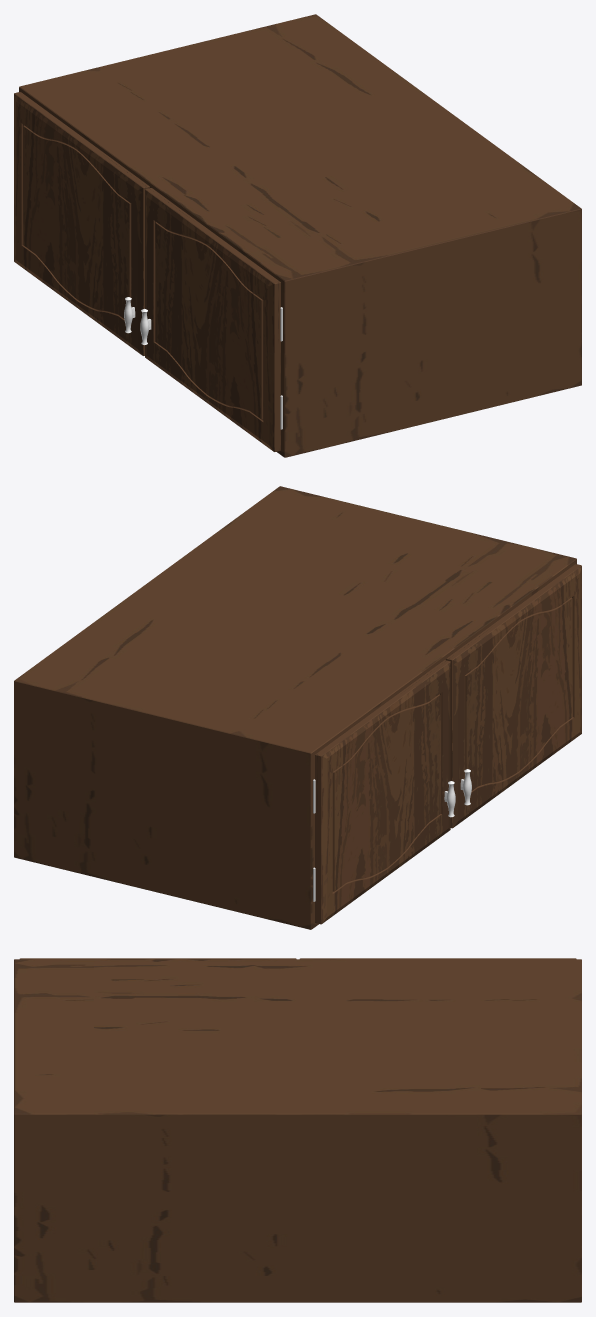
Rendered from top - cabinet - small.fbx.
3 renders of one model, top to bottom at view 1: azimuth 30°, elevation 25°; view 2: azimuth 150°, elevation 25°; view 3: azimuth 270°, elevation 25°, orthographic. The views are drawn at different scales.
Parts seen in each view (by area): view 1: Top - Cab - small - back, cab - door004, cab - door009; view 2: Top - Cab - small - back, cab - door009, cab - door004; view 3: Top - Cab - small - back, cab - door004, cab - door009.
Part boxes in pixels (box(x1,y1,x2,y2)): Top - Cab - small - back: box(19, 14, 581, 457); cab - door004: box(140, 188, 280, 451); cab - door009: box(14, 92, 149, 355); Top - Cab - small - back: box(14, 486, 576, 929); cab - door009: box(315, 660, 455, 924); cab - door004: box(446, 564, 581, 828); Top - Cab - small - back: box(14, 959, 581, 1302); cab - door004: box(20, 958, 296, 959); cab - door009: box(300, 958, 576, 959).
Bounding box in the file's own units: 103 × 55 × 150.
